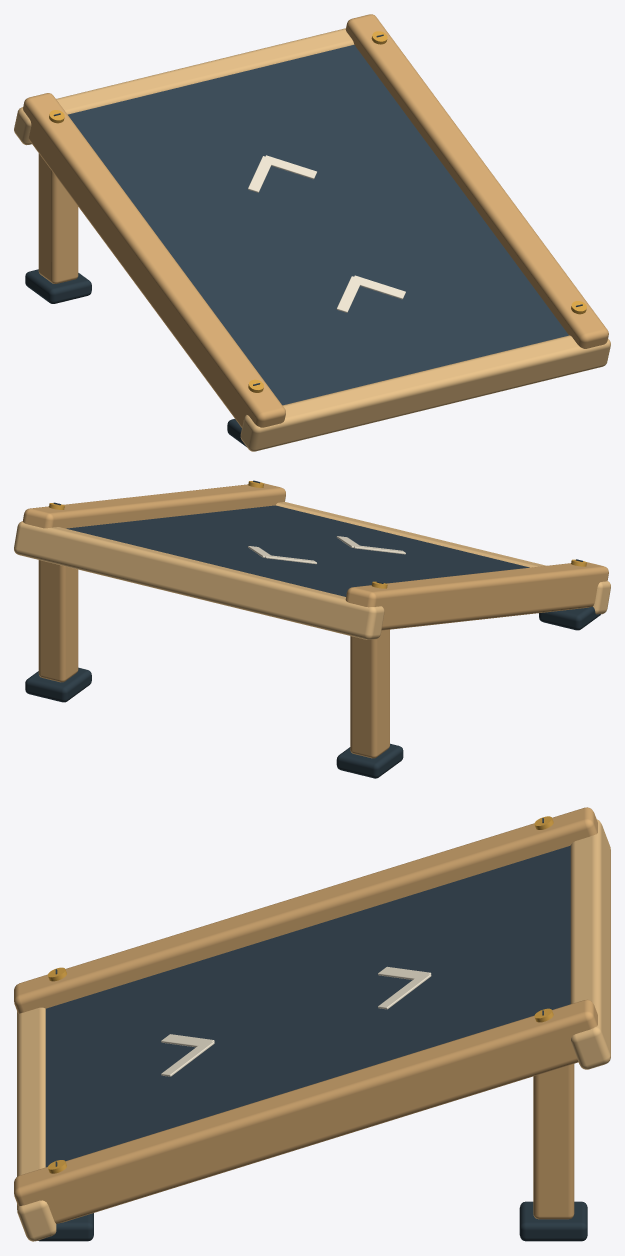
The model's file is play-ramp-seated-feet.glb.
The picture shows the model from 3 angles, top to bottom: view 1: azimuth 30°, elevation 25°; view 2: azimuth 150°, elevation 25°; view 3: azimuth 270°, elevation 25°; orthographic projection. The views are drawn at different scales.
Parts seen in each view (by area): view 1: Ramp_Driving_Surface, Ramp_Wood_Rail_Left, Ramp_Wood_Rail_Right, Ramp_End_Bar_0.185, Ramp_End_Bar_-0.185, Ramp_Rear_Support_-0.139, Ramp_Rear_Foot_-0.139; view 2: Ramp_Driving_Surface, Ramp_End_Bar_-0.185, Ramp_Wood_Rail_Left, Ramp_Wood_Rail_Right, Ramp_Rear_Support_-0.139, Ramp_Rear_Support_0.139, Ramp_End_Bar_0.185, Ramp_Rear_Foot_-0.139, Ramp_Rear_Foot_0.139, Ramp_Front_Foot_-0.139; view 3: Ramp_Driving_Surface, Ramp_Wood_Rail_Right, Ramp_Wood_Rail_Left, Ramp_End_Bar_-0.185, Ramp_Rear_Support_0.139, Ramp_End_Bar_0.185, Ramp_Rear_Foot_0.139, Ramp_Front_Foot_0.139.
Boxes of the visible parts, x1,y1,x2,y2 form: Ramp_Driving_Surface: (68,45,568,405); Ramp_Wood_Rail_Left: (23,93,285,427); Ramp_Wood_Rail_Right: (345,14,608,348); Ramp_End_Bar_0.185: (240,335,610,451); Ramp_End_Bar_-0.185: (14,28,354,145); Ramp_Rear_Support_-0.139: (38,153,78,283); Ramp_Rear_Foot_-0.139: (25,269,91,303); Ramp_Driving_Surface: (66,505,529,596); Ramp_End_Bar_-0.185: (14,521,384,639); Ramp_Wood_Rail_Left: (345,562,608,630); Ramp_Wood_Rail_Right: (23,483,285,528); Ramp_Rear_Support_-0.139: (350,629,389,758); Ramp_Rear_Support_0.139: (38,560,78,682); Ramp_End_Bar_0.185: (275,502,610,614); Ramp_Rear_Foot_-0.139: (336,743,403,778); Ramp_Rear_Foot_0.139: (25,667,91,702); Ramp_Front_Foot_-0.139: (539,606,600,630); Ramp_Driving_Surface: (45,845,570,1167); Ramp_Wood_Rail_Right: (14,999,597,1223); Ramp_Wood_Rail_Left: (14,807,597,1013); Ramp_End_Bar_-0.185: (570,819,610,1069); Ramp_Rear_Support_0.139: (533,1064,574,1219); Ramp_End_Bar_0.185: (17,1007,56,1241); Ramp_Rear_Foot_0.139: (519,1201,587,1241); Ramp_Front_Foot_0.139: (38,1213,93,1241).
Bounding box in the file's own units: 0.32 × 0.1594 × 0.3778.
